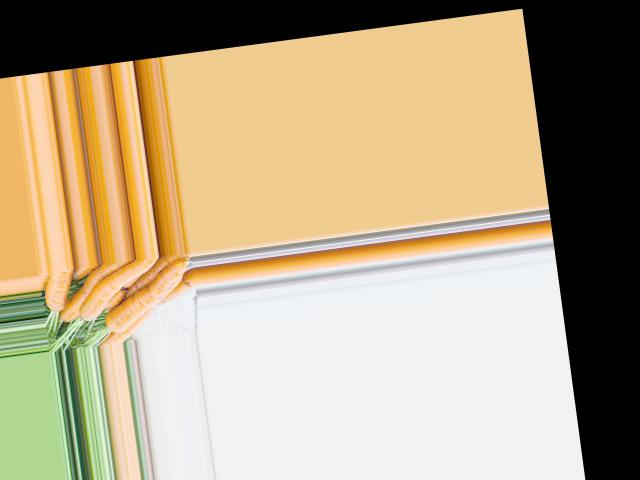carrot: (37, 269, 76, 319)
